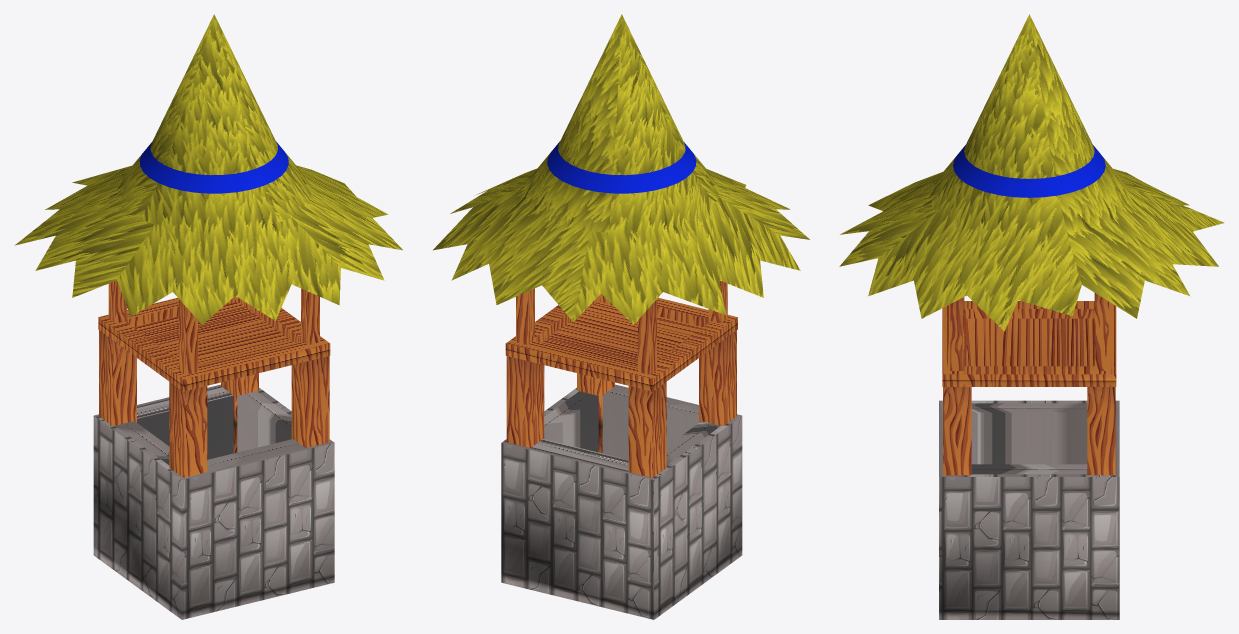
Rendered from Watch Tower.fbx.
3 views of the same model, side by side, from view 1: azimuth 30°, elevation 25°; view 2: azimuth 150°, elevation 25°; view 3: azimuth 270°, elevation 25° (orthographic). The views are drawn at different scales.
Visible parts, largest first — view 1: Watch Towers.001; view 2: Watch Towers.001; view 3: Watch Towers.001.
Boxes of the visible parts, x1,y1,x2,y2 form: Watch Towers.001: (14,14,402,619); Watch Towers.001: (433,14,809,619); Watch Towers.001: (839,14,1224,619).
Size of the model in its own units: 182 by 298 by 184.
Materials: 4 (3 with a texture image).
